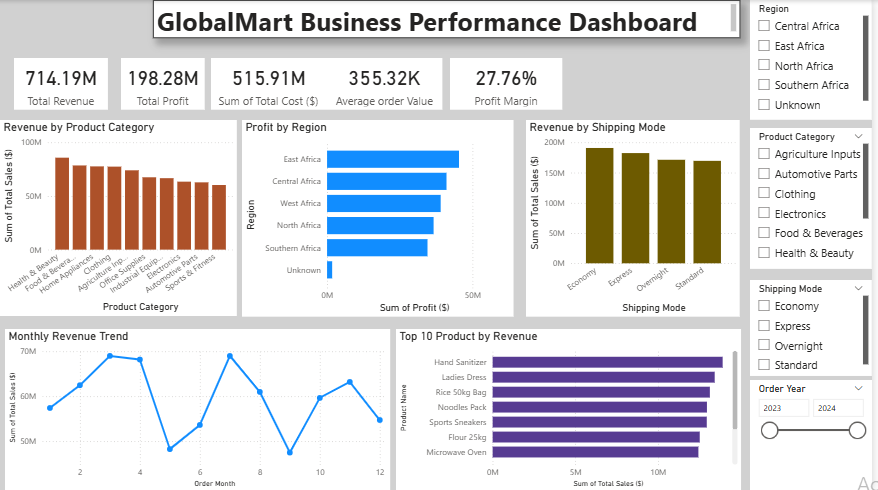

The dashboard page shown, as its layout file describes it:
{"tool":"powerbi","page":{"name":"Business Performance Dashboard","canvas":[1280,720],"ordinal":1},"visuals":[{"type":"card","fields":{"Values":["Cleaned Data.Total Profit"]},"box":[177.5,85,122.5,76.2],"z":0},{"type":"card","fields":{"Values":["Cleaned Data.Total Revenue"]},"box":[20,85,137.5,76.2],"z":1000},{"type":"card","fields":{"Values":["Cleaned Data.Average order Value"]},"box":[478.8,85,171.2,76.2],"z":2000},{"type":"card","fields":{"Values":["Cleaned Data.Profit Margin"]},"box":[661.2,85,165,76.2],"z":3000},{"type":"textbox","box":[10,263,168,150],"z":4000},{"type":"textbox","box":[224.3,0,862.9,55.7],"z":5000},{"type":"card","fields":{"Values":["Sum(Cleaned Data.Total Cost ($))"]},"box":[310,85,168.8,76.2],"z":6000},{"type":"clusteredColumnChart","title":"Revenue by Product Category","fields":{"Category":["Cleaned Data.Product Category"],"Y":["Sum(Cleaned Data.Total Sales ($))"]},"box":[0,176.2,347.5,287.5],"z":7000},{"type":"clusteredBarChart","title":"Profit by Region","fields":{"Category":["Cleaned Data.Region"],"Y":["Sum(Cleaned Data.Profit ($))"]},"box":[355.7,175.7,398.6,288.6],"z":8000},{"type":"lineChart","title":"Monthly Revenue Trend","fields":{"Category":["Cleaned Data.Order Month"],"Y":["Sum(Cleaned Data.Total Sales ($))"]},"box":[7.1,482.9,565.7,237.1],"z":9000},{"type":"clusteredColumnChart","title":"Revenue by Shipping Mode","fields":{"Category":["Cleaned Data.Shipping Mode"],"Y":["Sum(Cleaned Data.Total Sales ($))"]},"box":[772.9,175.7,314.3,288.6],"z":10000},{"type":"clusteredBarChart","title":"Top 10 Product by Revenue","fields":{"Category":["Cleaned Data.Product Name"],"Y":["Sum(Cleaned Data.Total Sales ($))"]},"box":[581.4,482.9,507.1,237.1],"z":11000},{"type":"slicer","fields":{"Values":["Cleaned Data.Region"]},"box":[1101.4,0,178.6,175.7],"z":12000},{"type":"slicer","fields":{"Values":["Cleaned Data.Product Category"]},"box":[1101.4,188.6,178.6,207.1],"z":13000},{"type":"slicer","fields":{"Values":["Cleaned Data.Shipping Mode"]},"box":[1101.4,411.4,178.6,141.4],"z":14000},{"type":"slicer","fields":{"Values":["Cleaned Data.Order Year"]},"box":[1101.4,558.6,178.6,161.4],"z":15000}]}

Visuals, with their boxes in screenshot pixels (x1, y1, x2, y2), scaled from the page's 1280x720 canvas onto the 878x490 screenshot:
card - Cleaned Data.Total Profit: (122, 58, 206, 110)
card - Cleaned Data.Total Revenue: (14, 58, 108, 110)
card - Cleaned Data.Average order Value: (328, 58, 446, 110)
card - Cleaned Data.Profit Margin: (454, 58, 567, 110)
textbox: (7, 179, 122, 281)
textbox: (154, 0, 746, 38)
card - Sum(Cleaned Data.Total Cost ($)): (213, 58, 328, 110)
"Revenue by Product Category" clusteredColumnChart: (0, 120, 238, 316)
"Profit by Region" clusteredBarChart: (244, 120, 517, 316)
"Monthly Revenue Trend" lineChart: (5, 329, 393, 489)
"Revenue by Shipping Mode" clusteredColumnChart: (530, 120, 746, 316)
"Top 10 Product by Revenue" clusteredBarChart: (399, 329, 747, 489)
slicer - Cleaned Data.Region: (755, 0, 877, 120)
slicer - Cleaned Data.Product Category: (755, 128, 877, 269)
slicer - Cleaned Data.Shipping Mode: (755, 280, 877, 376)
slicer - Cleaned Data.Order Year: (755, 380, 877, 489)
